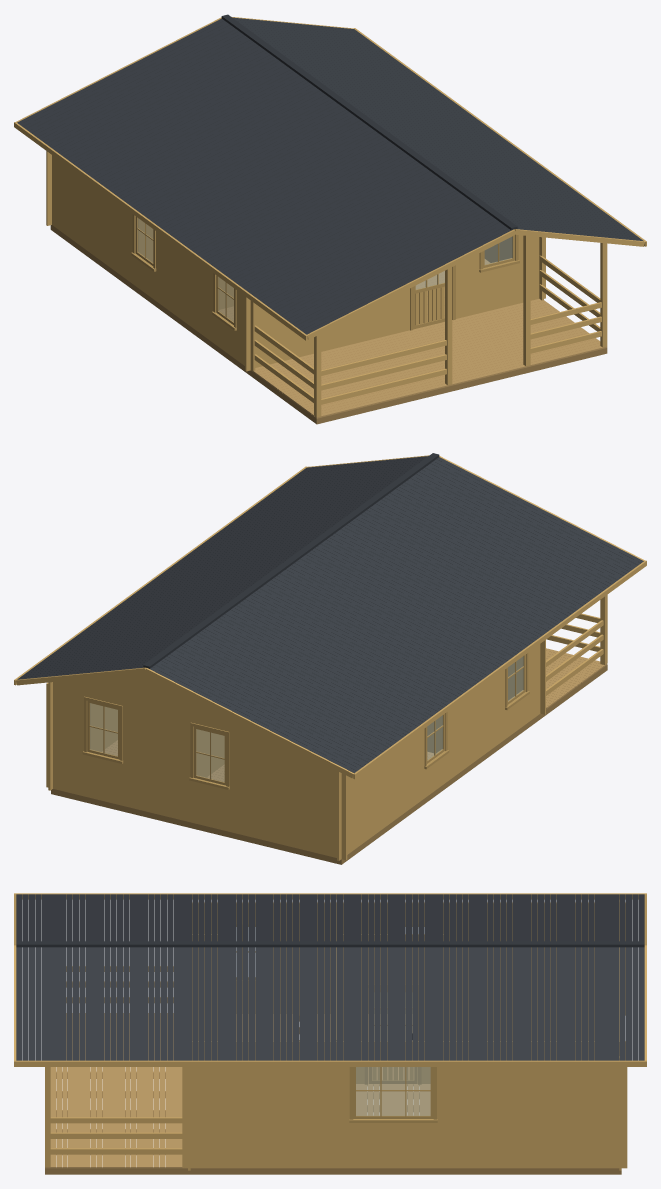
File: максим_7_6_6_3_44_мм_терраса.glb
The picture shows the model from 3 angles, top to bottom: view 1: azimuth 30°, elevation 25°; view 2: azimuth 150°, elevation 25°; view 3: azimuth 270°, elevation 25°; orthographic projection. The views are drawn at different scales.
Visible parts, largest first — view 1: roof, terrace, walls, Максим 7,6×6,3 (44 мм, терраса); view 2: roof, walls, Максим 7,6×6,3 (44 мм, терраса), terrace, object 116, object 127; view 3: roof, walls, terrace, Максим 7,6×6,3 (44 мм, терраса), object 160, floor.
Part boxes in pixels (x1=…): roof: x1=14, y1=14, x2=646, y2=340; terrace: x1=253, y1=235, x2=607, y2=418; walls: x1=46, y1=151, x2=545, y2=371; Максим 7,6×6,3 (44 мм, терраса): x1=50, y1=225, x2=607, y2=424; roof: x1=14, y1=453, x2=646, y2=779; walls: x1=46, y1=640, x2=545, y2=860; Максим 7,6×6,3 (44 мм, терраса): x1=51, y1=664, x2=607, y2=864; terrace: x1=546, y1=594, x2=607, y2=709; object 116: x1=196, y1=729, x2=224, y2=781; object 127: x1=90, y1=703, x2=117, y2=755; roof: x1=14, y1=893, x2=646, y2=1066; walls: x1=182, y1=900, x2=627, y2=1170; terrace: x1=45, y1=966, x2=184, y2=1168; Максим 7,6×6,3 (44 мм, терраса): x1=45, y1=1016, x2=621, y2=1174; object 160: x1=356, y1=1067, x2=430, y2=1115; floor: x1=236, y1=1014, x2=430, y2=1115.
Size of the model in its own units: 7.45 by 3.37 by 11.03.
